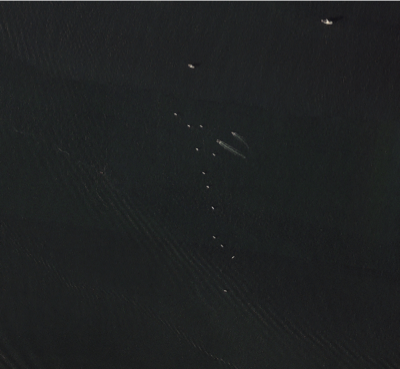boat: (321, 18, 333, 24), (188, 64, 195, 68), (231, 131, 236, 136), (206, 185, 210, 188), (217, 140, 221, 143), (221, 244, 224, 247), (213, 235, 216, 238), (212, 206, 215, 209), (213, 153, 216, 156), (202, 172, 206, 174), (187, 125, 191, 127), (232, 256, 235, 258), (196, 148, 199, 150), (200, 125, 203, 127), (174, 113, 177, 115), (224, 290, 227, 291)
